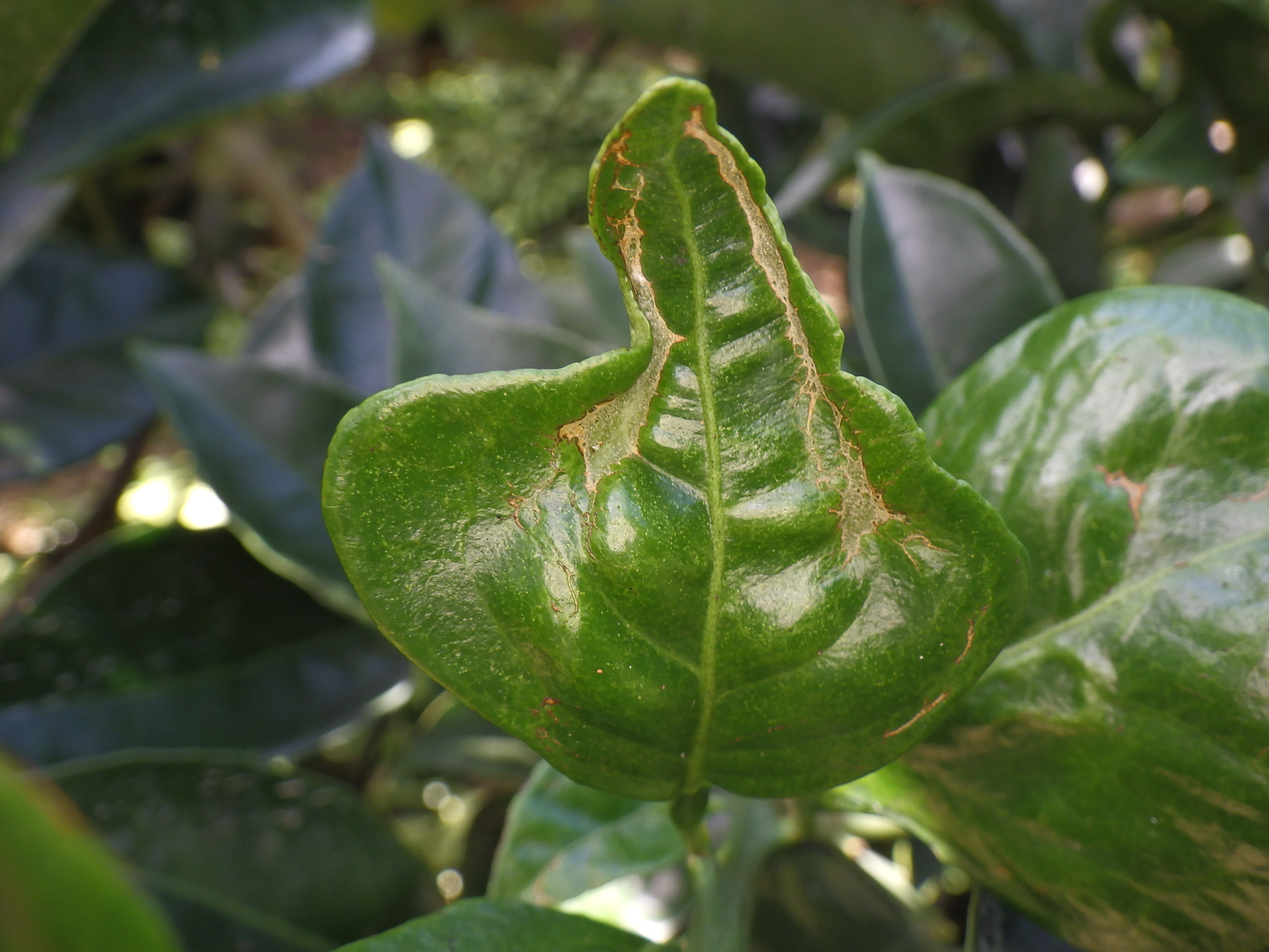Thrips_Damage: (692, 124, 901, 575), (559, 202, 677, 495)
